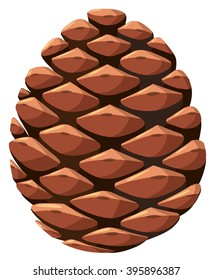Pc: (7, 7, 207, 253)
